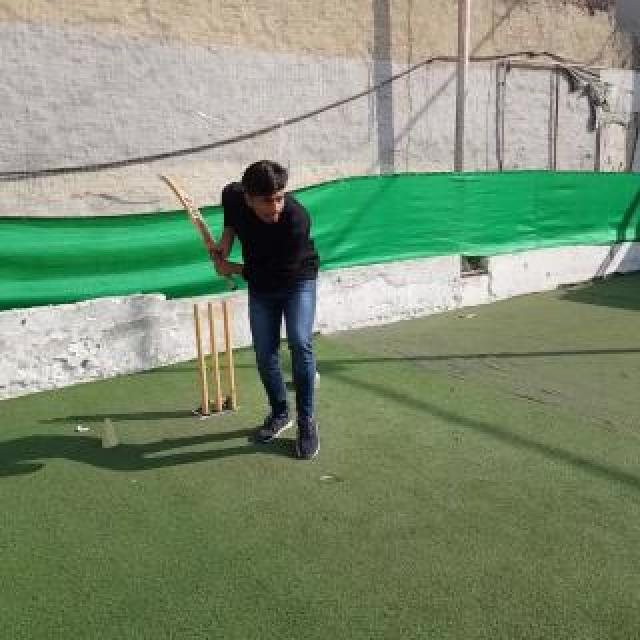bat: (158, 172, 238, 290)
